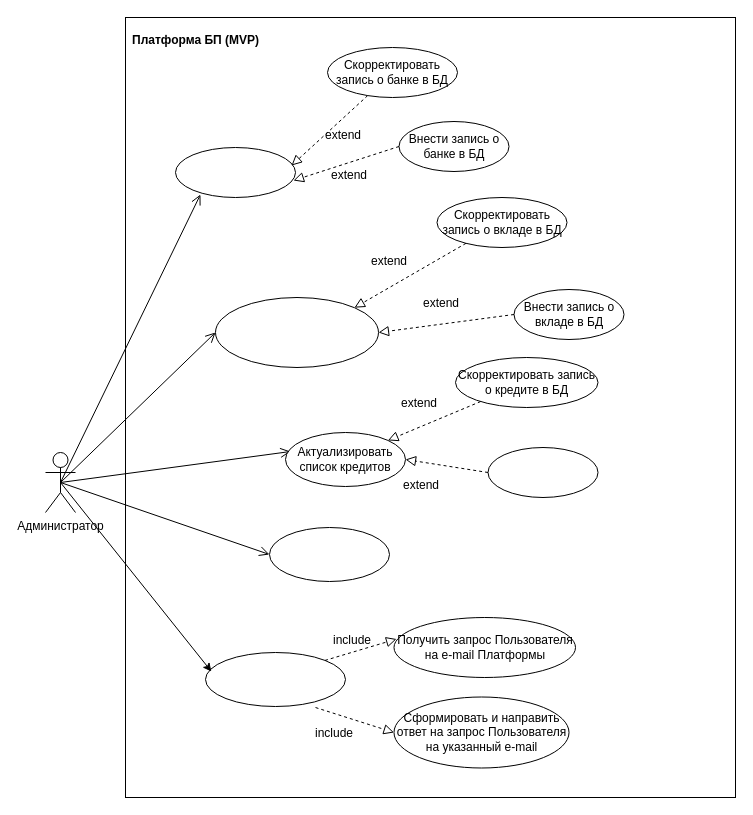
Image size: 753x815. Some labels were removed from this diagram. The centre of each missing label's shape, as x and y in pixels:
Актуализировать перечень банков: [235,172]
Актуализировать список вкладов: [296,332]
Внести запись о кредите в БД: [542,472]
Направить ответ на запрос Пользователя: [275,679]
Скорректировать источник данных по курсам валют: [329,554]
